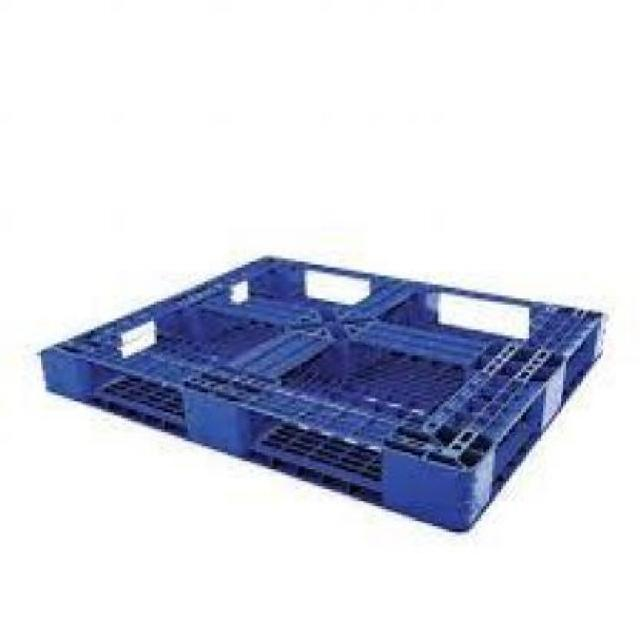pallet: (17, 250, 614, 545)
